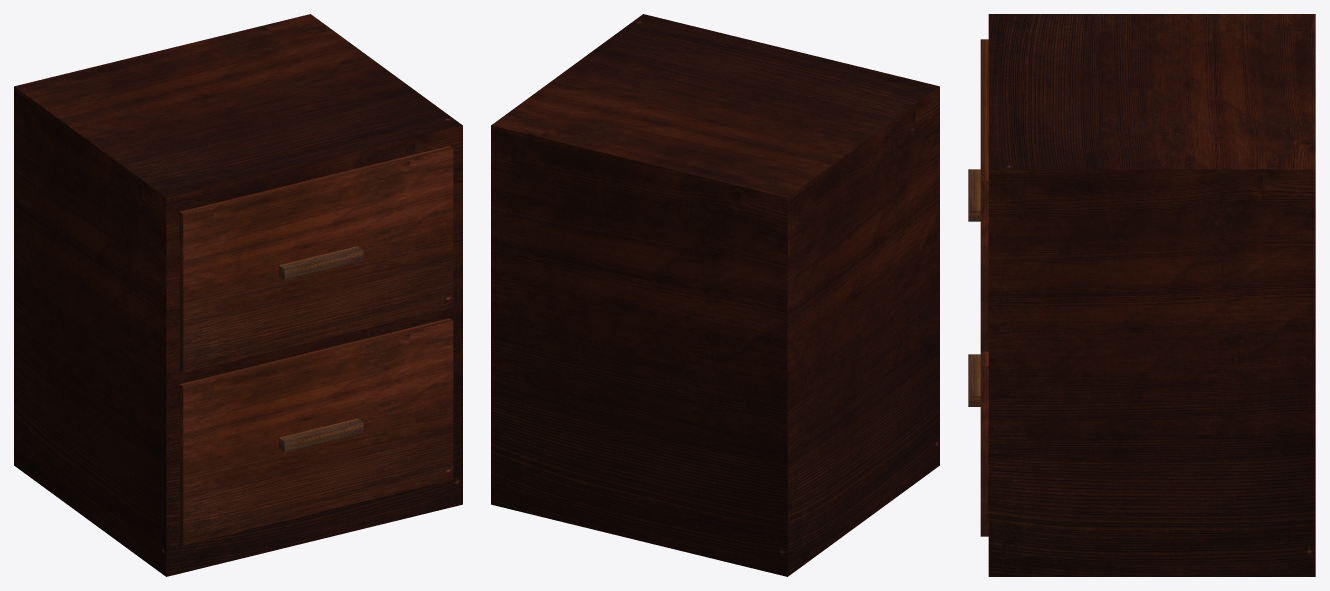
Rendered from state-default.glb.
3 views of the same model, side by side, from view 1: azimuth 30°, elevation 25°; view 2: azimuth 150°, elevation 25°; view 3: azimuth 270°, elevation 25° (orthographic). The views are drawn at different scales.
Visible parts, largest first — view 1: assetPrim:c73ce00cad78a8-19c732af8bf:bedside-body, assetPrim:c73ce00cad78a8-19c732af8bf:bedside-drawer-bottom, assetPrim:c73ce00cad78a8-19c732af8bf:bedside-drawer-top, assetPrim:c73ce00cad78a8-19c732af8bf:bedside-handle-top, assetPrim:c73ce00cad78a8-19c732af8bf:bedside-handle-bottom; view 2: assetPrim:c73ce00cad78a8-19c732af8bf:bedside-body; view 3: assetPrim:c73ce00cad78a8-19c732af8bf:bedside-body, assetPrim:c73ce00cad78a8-19c732af8bf:bedside-drawer-top, assetPrim:c73ce00cad78a8-19c732af8bf:bedside-drawer-bottom, assetPrim:c73ce00cad78a8-19c732af8bf:bedside-handle-top, assetPrim:c73ce00cad78a8-19c732af8bf:bedside-handle-bottom.
Part boxes in pixels (left/top/right/bottom): assetPrim:c73ce00cad78a8-19c732af8bf:bedside-body: left=14, top=14, right=462, bottom=576; assetPrim:c73ce00cad78a8-19c732af8bf:bedside-drawer-bottom: left=179, top=318, right=453, bottom=545; assetPrim:c73ce00cad78a8-19c732af8bf:bedside-drawer-top: left=179, top=146, right=453, bottom=372; assetPrim:c73ce00cad78a8-19c732af8bf:bedside-handle-top: left=279, top=246, right=363, bottom=279; assetPrim:c73ce00cad78a8-19c732af8bf:bedside-handle-bottom: left=279, top=418, right=363, bottom=452; assetPrim:c73ce00cad78a8-19c732af8bf:bedside-body: left=491, top=14, right=939, bottom=576; assetPrim:c73ce00cad78a8-19c732af8bf:bedside-body: left=988, top=14, right=1315, bottom=576; assetPrim:c73ce00cad78a8-19c732af8bf:bedside-drawer-top: left=980, top=39, right=988, bottom=351; assetPrim:c73ce00cad78a8-19c732af8bf:bedside-drawer-bottom: left=980, top=351, right=988, bottom=536; assetPrim:c73ce00cad78a8-19c732af8bf:bedside-handle-top: left=968, top=169, right=980, bottom=221; assetPrim:c73ce00cad78a8-19c732af8bf:bedside-handle-bottom: left=968, top=354, right=980, bottom=406.
Bounding box in the file's own units: 0.45 × 0.55 × 0.425.
5 materials, 5 textured.
